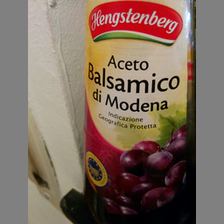vinegar: (86, 1, 197, 223)
